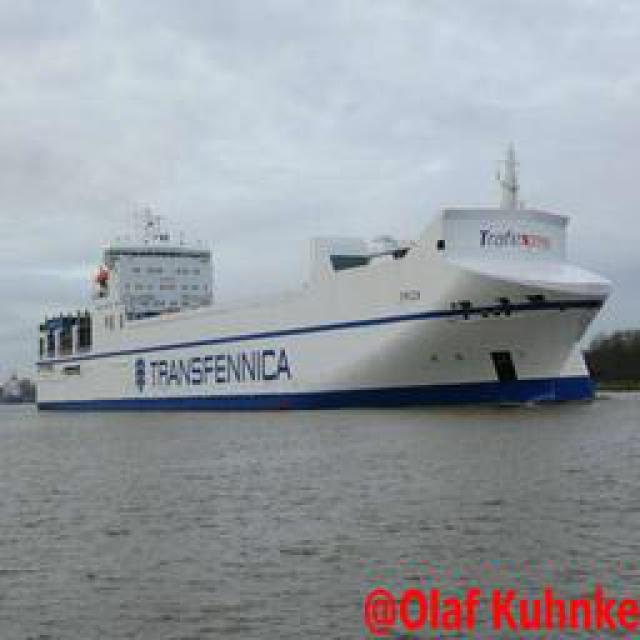Ship: (33, 195, 618, 418)
